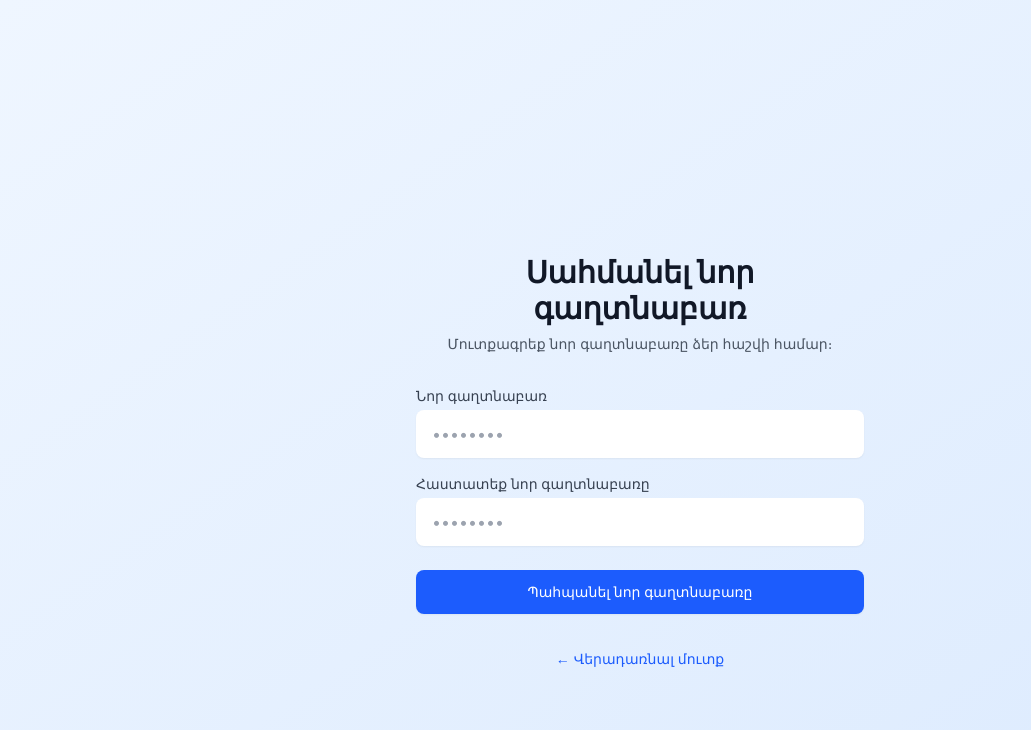
Test: ResetPasswordPage › submits valid token and password and shows success message
Type "newpassword123" into the password field labelled "Նոր գաղտնաբառ" at (640, 434), box top-left (416, 410), bottom-right (864, 458)
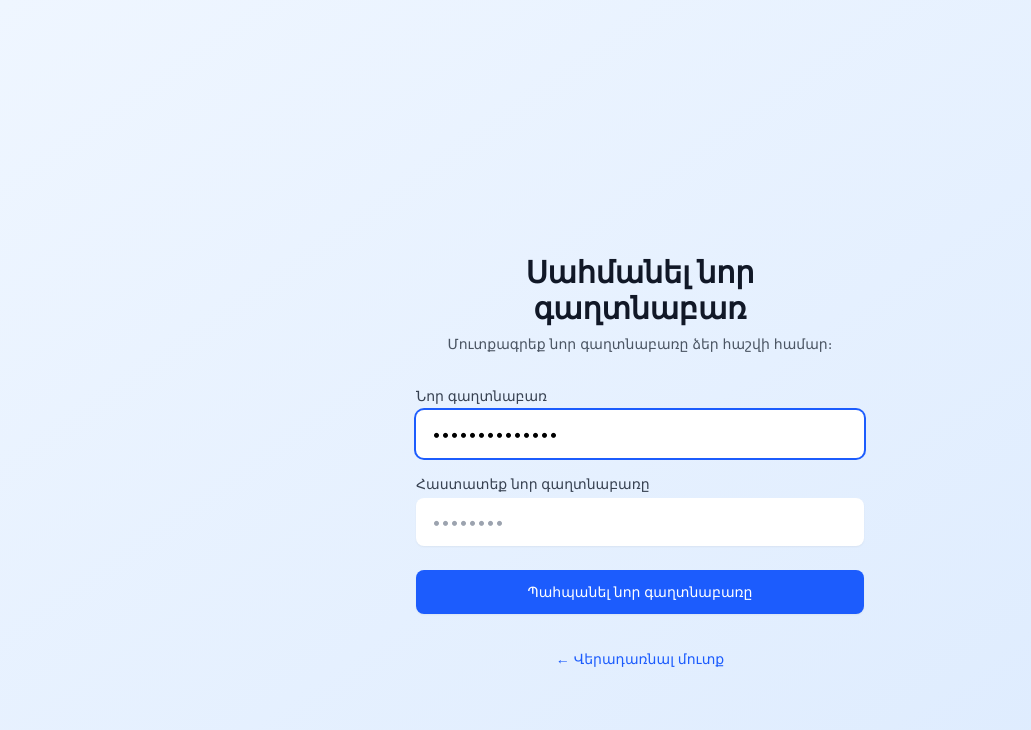
Type "newpassword123" into the password field labelled "Հաստատեք նոր գաղտնաբառը" at (640, 522), box top-left (416, 498), bottom-right (864, 546)
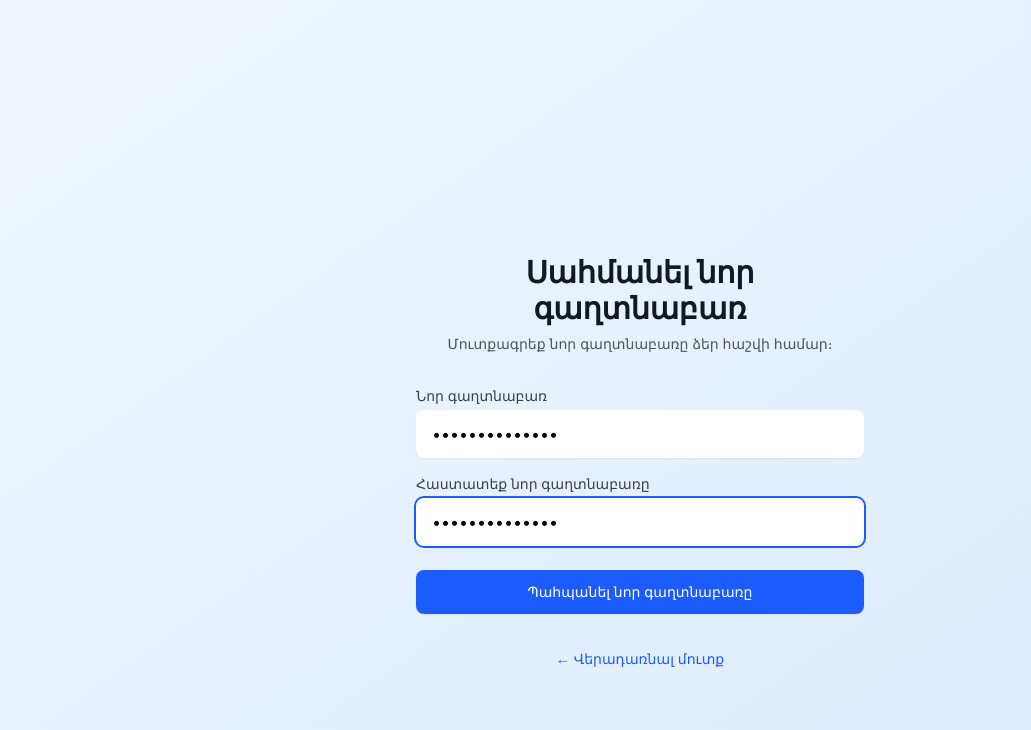
Click the button "Պահպանել նոր գաղտնաբառը" at (640, 592), box top-left (416, 570), bottom-right (864, 614)
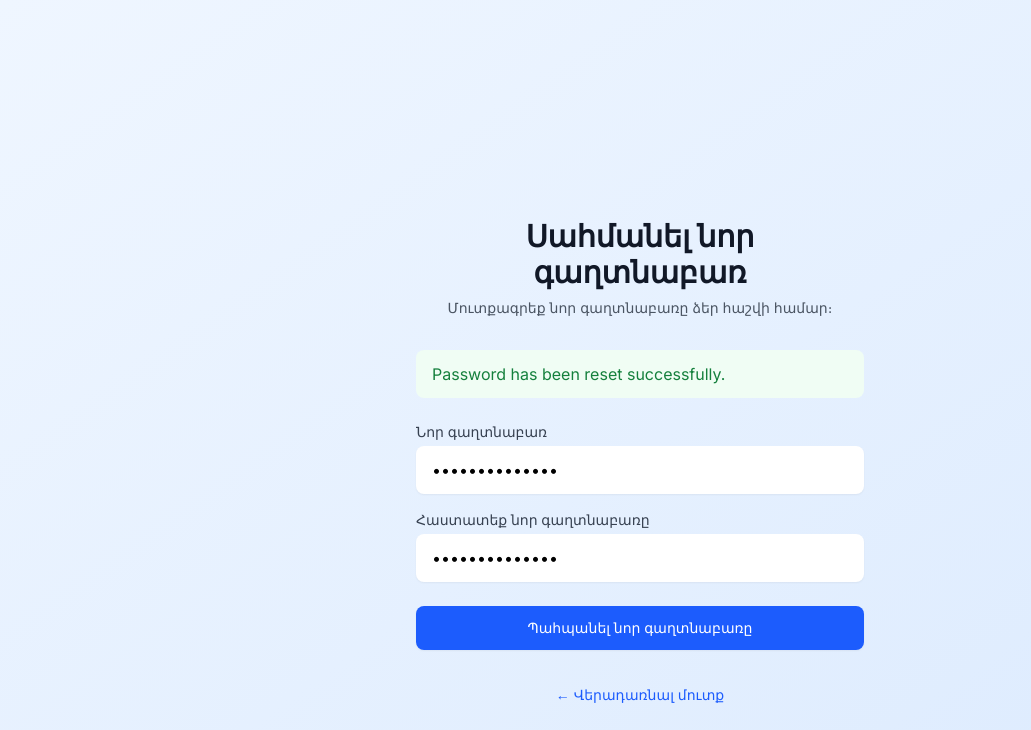
Check: the text "Password has been reset successfully." is shown, box top-left (416, 350), bottom-right (864, 398)
